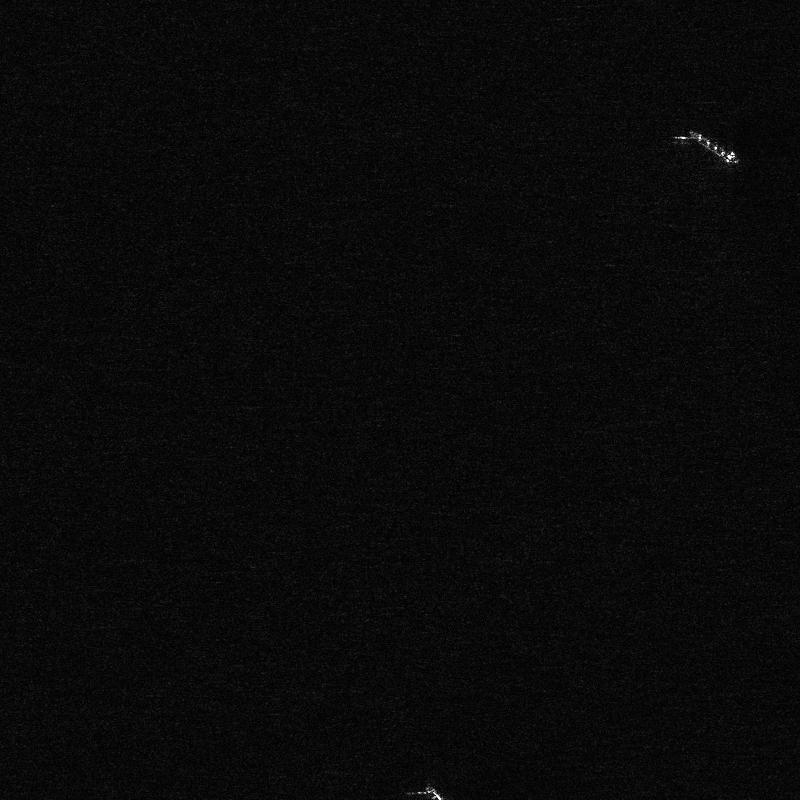ship: (689, 130, 739, 164), (425, 784, 444, 799)
